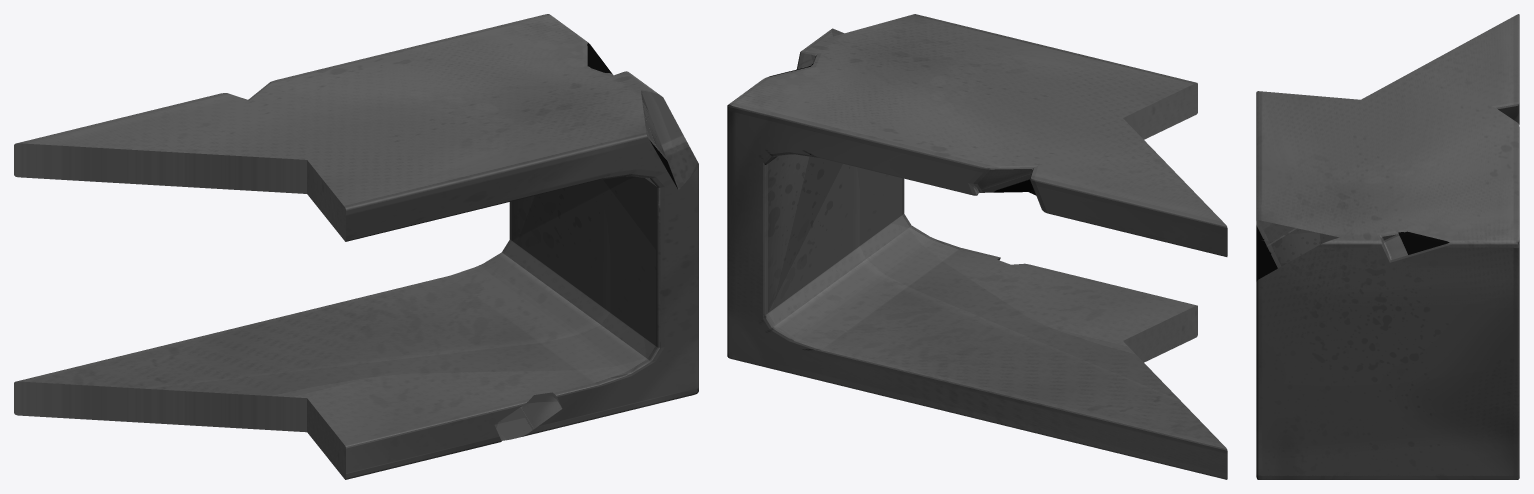
Rendered from Brick-2-Half-3.fbx.
3 views of the same model, side by side, from view 1: azimuth 30°, elevation 25°; view 2: azimuth 150°, elevation 25°; view 3: azimuth 270°, elevation 25° (orthographic). The views are drawn at different scales.
Parts seen in each view (by area): view 1: Brick-1.003; view 2: Brick-1.003; view 3: Brick-1.003.
Part boxes in pixels (x1=…): Brick-1.003: x1=14, y1=14, x2=698, y2=479; Brick-1.003: x1=727, y1=14, x2=1227, y2=479; Brick-1.003: x1=1256, y1=14, x2=1519, y2=479.
Bounding box in the file's own units: 13664 × 6635 × 6635.
